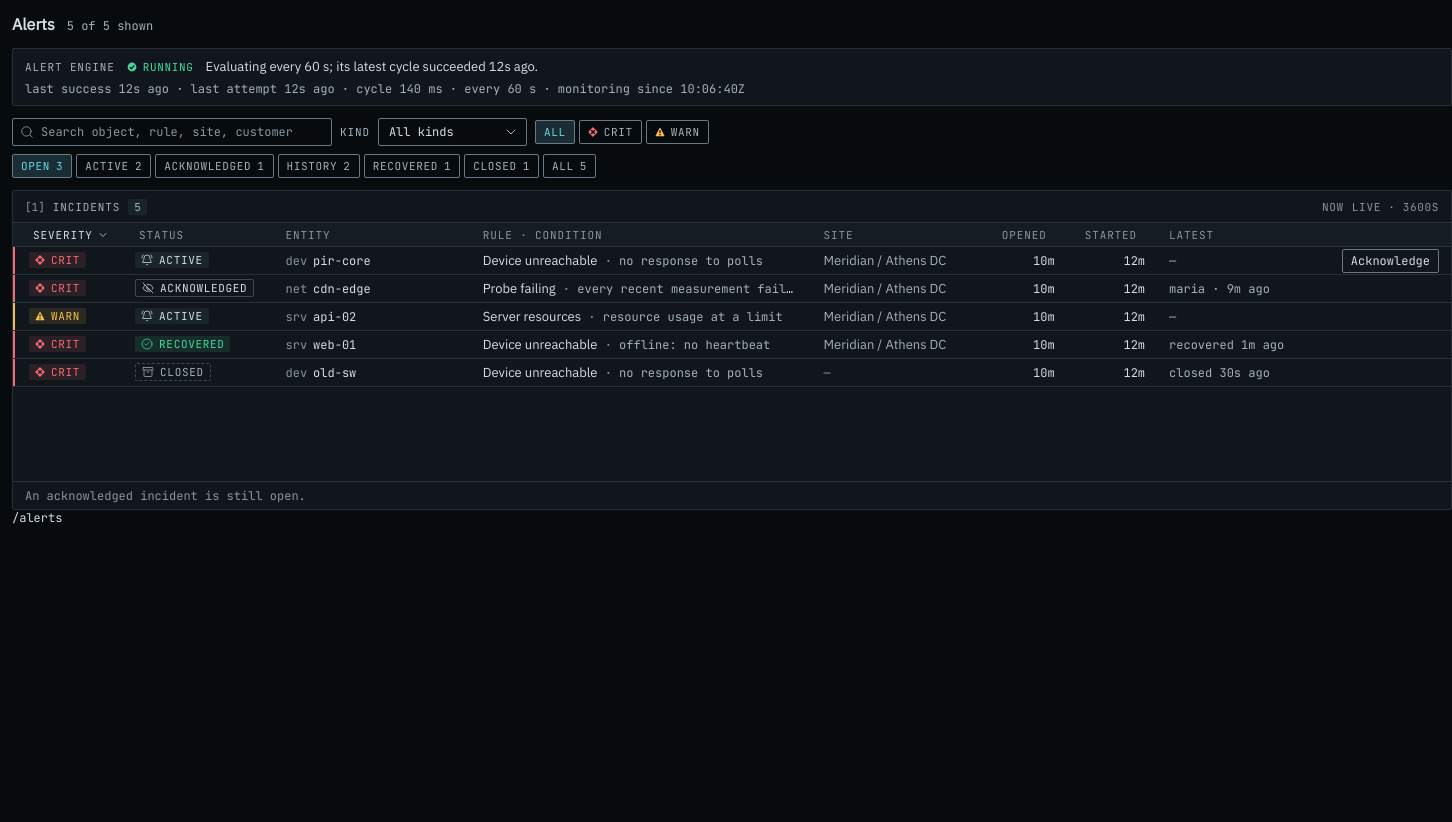
Test: acknowledging › says it was already acknowledged by someone else, when the API keeps the first
The width and height of the screenshot is (1452, 822).
Click the button "Acknowledge". click: (1390,260)
box: 1342,248 -> 1439,272
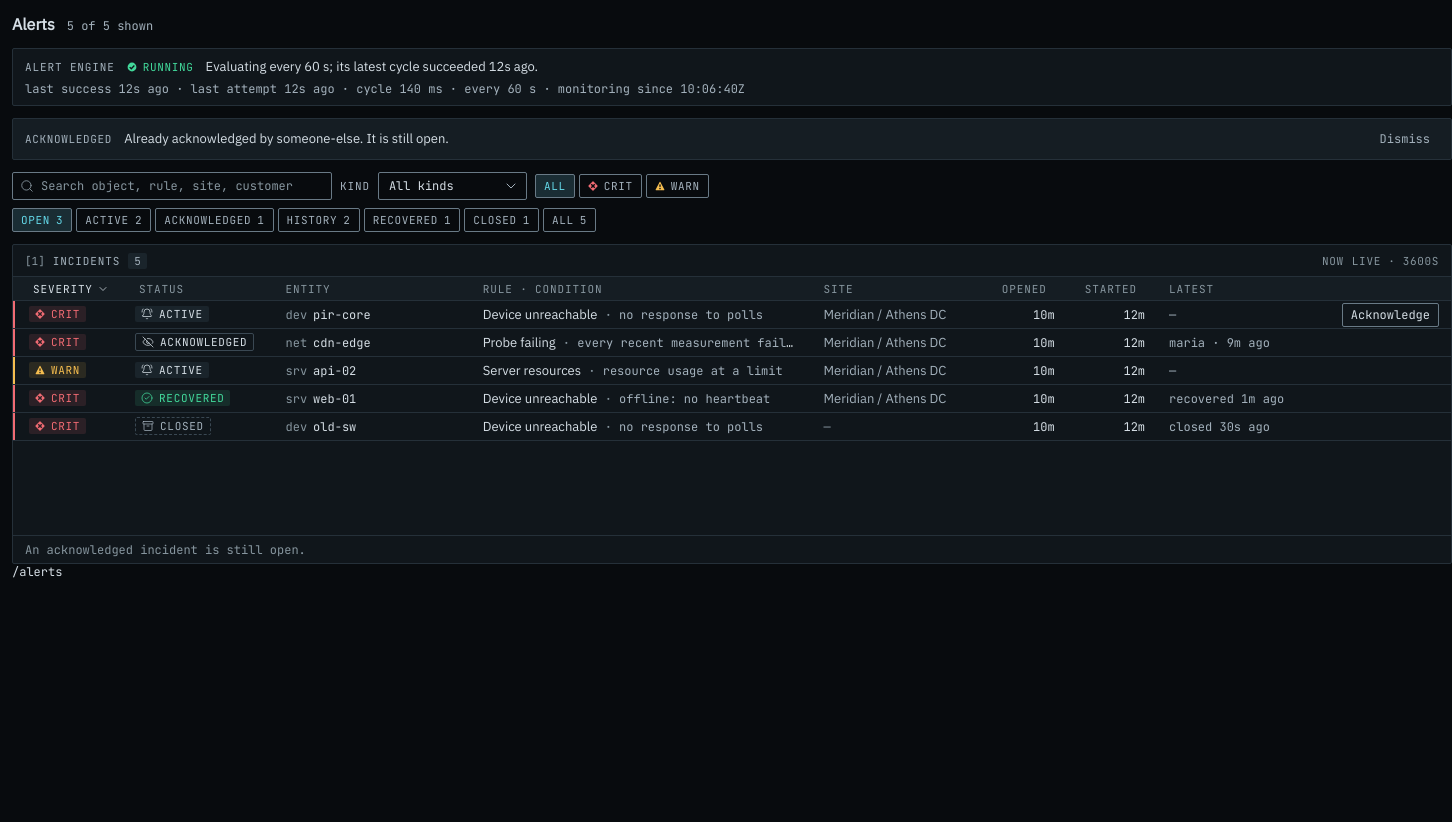
Expected: the message shows "Already acknowledged by someone-else. It is still open.", 124,130 -> 449,147
